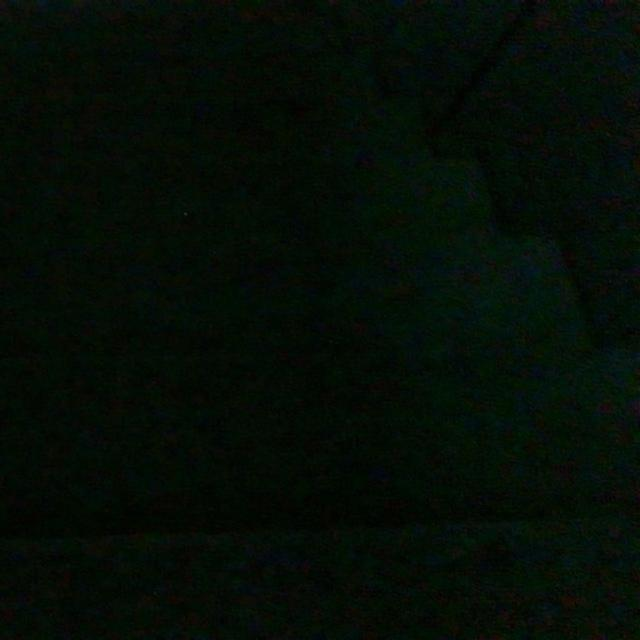stair: (3, 78, 639, 592)
